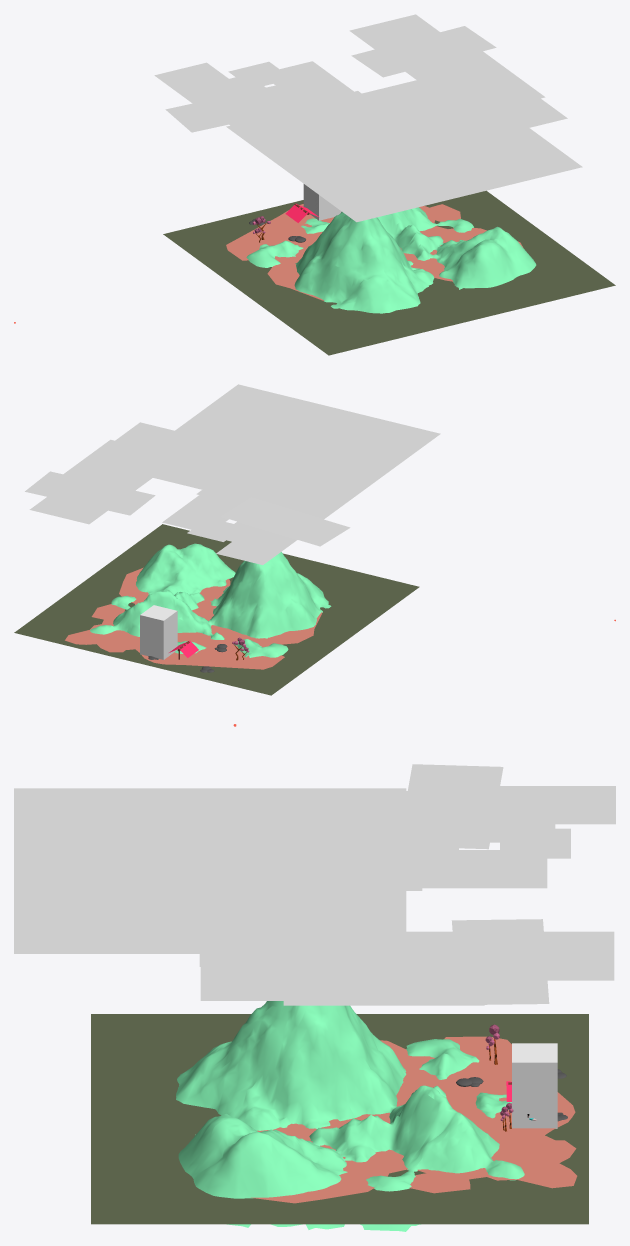
The picture shows the model from 3 angles, top to bottom: view 1: azimuth 30°, elevation 25°; view 2: azimuth 150°, elevation 25°; view 3: azimuth 270°, elevation 25°; orthographic projection. The views are drawn at different scales.
Parts seen in each view (by area): view 1: Plane.001, land, Landscape.002, Plane.015, Plane, Plane.013, Plane.004, Plane.014, Plane.018, Plane.006, Plane.012, Plane.010 (+3 smaller); view 2: Plane.001, land, Landscape.002, Plane, Plane.015, Plane.013, Plane.004, Smoke Domain, Plane.014, Plane.018, Plane.012, Plane.006 (+1 smaller); view 3: Plane.001, land, Landscape.002, Plane, Plane.015, Plane.013, Plane.004, Plane.006, Plane.014, Plane.018, Smoke Domain, Plane.012 (+4 smaller).
Boxes of the visible parts, bbox=[...] form: Plane.001: bbox=[226, 71, 582, 222]; land: bbox=[163, 190, 615, 355]; Landscape.002: bbox=[246, 207, 536, 313]; Plane.015: bbox=[349, 14, 507, 89]; Plane: bbox=[226, 204, 523, 300]; Plane.013: bbox=[165, 83, 311, 132]; Plane.004: bbox=[229, 97, 342, 147]; Plane.014: bbox=[154, 62, 246, 103]; Plane.018: bbox=[273, 61, 353, 105]; Plane.006: bbox=[494, 69, 567, 127]; Plane.012: bbox=[351, 26, 496, 77]; Plane.010: bbox=[228, 61, 292, 88]; Plane.001: bbox=[121, 384, 440, 519]; land: bbox=[14, 524, 419, 695]; Landscape.002: bbox=[90, 543, 331, 657]; Plane: bbox=[65, 567, 322, 669]; Plane.015: bbox=[29, 449, 152, 524]; Plane.013: bbox=[221, 497, 350, 546]; Plane.004: bbox=[240, 480, 346, 518]; Smoke Domain: bbox=[140, 605, 177, 659]; Plane.014: bbox=[216, 526, 297, 564]; Plane.018: bbox=[162, 495, 245, 529]; Plane.012: bbox=[25, 471, 155, 515]; Plane.006: bbox=[80, 422, 174, 467]; Plane.001: bbox=[14, 788, 406, 953]; land: bbox=[91, 1014, 588, 1224]; Landscape.002: bbox=[176, 1001, 524, 1231]; Plane: bbox=[251, 1036, 577, 1203]; Plane.015: bbox=[337, 931, 614, 980]; Plane.013: bbox=[398, 764, 503, 849]; Plane.004: bbox=[316, 791, 458, 851]; Plane.006: bbox=[200, 967, 401, 1000]; Plane.014: bbox=[493, 786, 615, 824]; Plane.018: bbox=[406, 850, 547, 888]; Smoke Domain: bbox=[512, 1043, 557, 1128]; Plane.012: bbox=[451, 919, 549, 1005].
Size of the model in its own units: 50.45 by 14.9 by 31.47.
